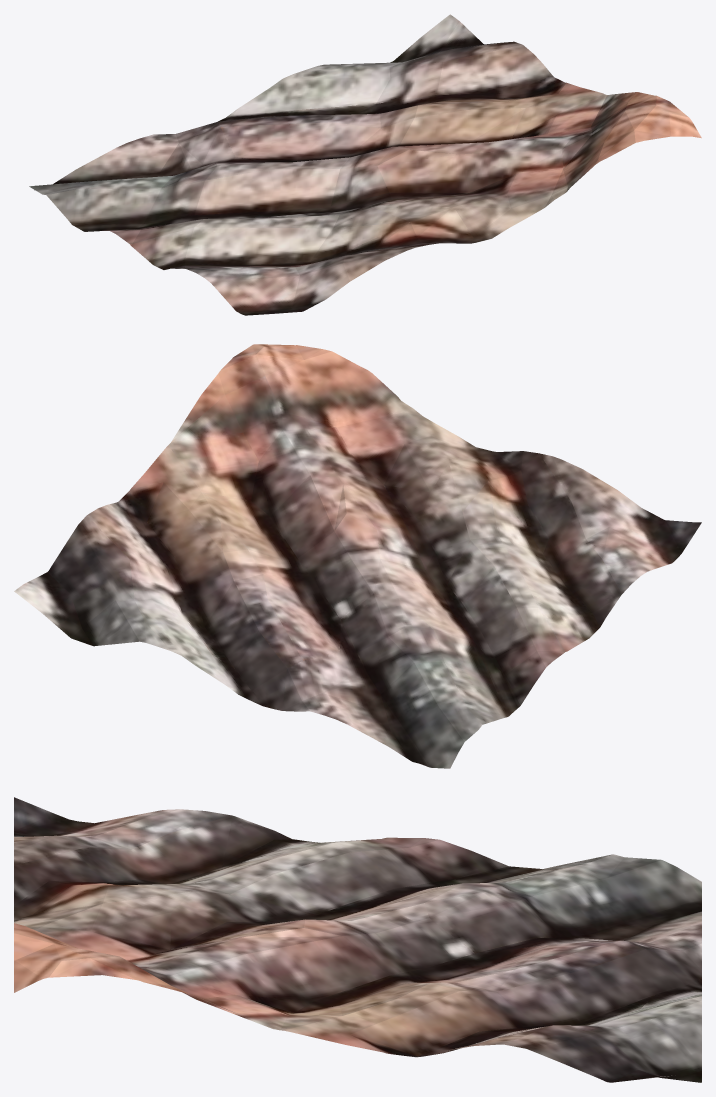
The picture shows the model from 3 angles, top to bottom: view 1: azimuth 30°, elevation 25°; view 2: azimuth 150°, elevation 25°; view 3: azimuth 270°, elevation 25°; orthographic projection. The views are drawn at different scales.
Bounding box in the file's own units: 0.8374 × 0.2788 × 0.8374.
3 materials, 3 textured.
